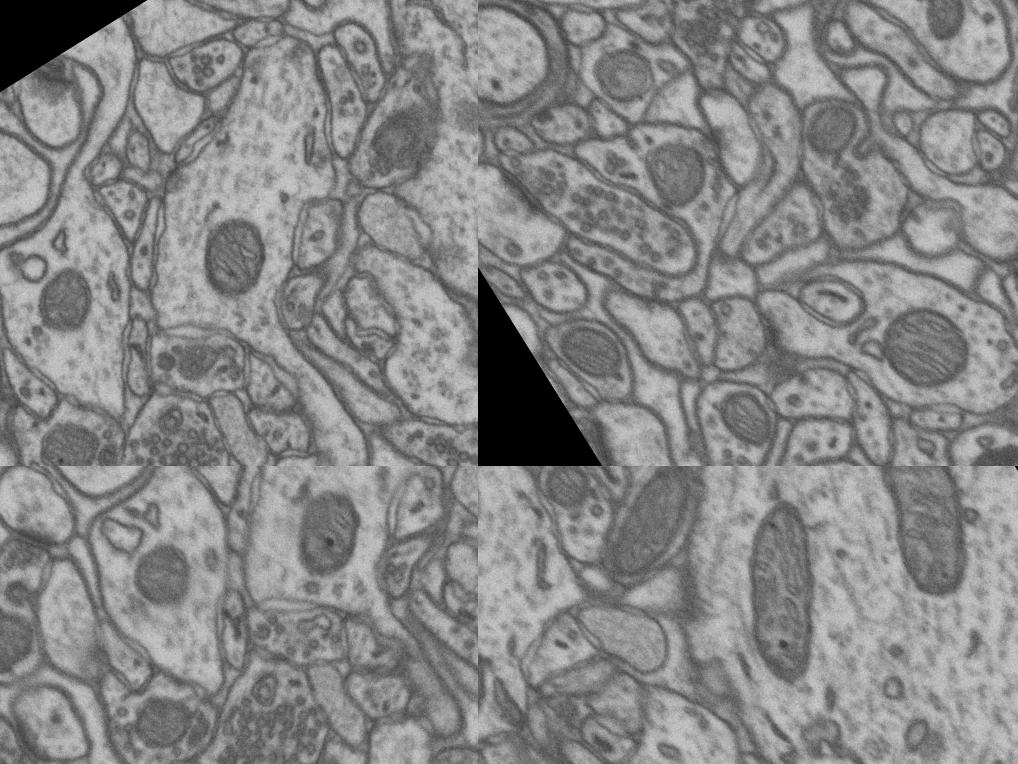mitochondria: (682, 482, 886, 701), (829, 466, 1018, 619), (856, 278, 1000, 426), (571, 466, 732, 598), (174, 199, 298, 322), (263, 479, 387, 602), (622, 110, 733, 226), (342, 80, 454, 194), (573, 18, 680, 125), (108, 532, 212, 639), (10, 253, 116, 357), (541, 294, 641, 400), (104, 672, 209, 764), (782, 80, 880, 175), (700, 371, 793, 466), (14, 400, 115, 466), (496, 0, 665, 33), (896, 0, 993, 56), (521, 466, 606, 527), (478, 632, 519, 751), (0, 603, 44, 681), (803, 451, 898, 466)
